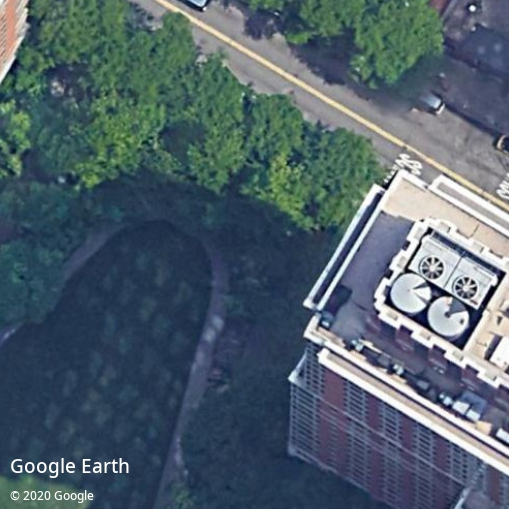Vent: (420, 256, 444, 279), (455, 276, 478, 299)
